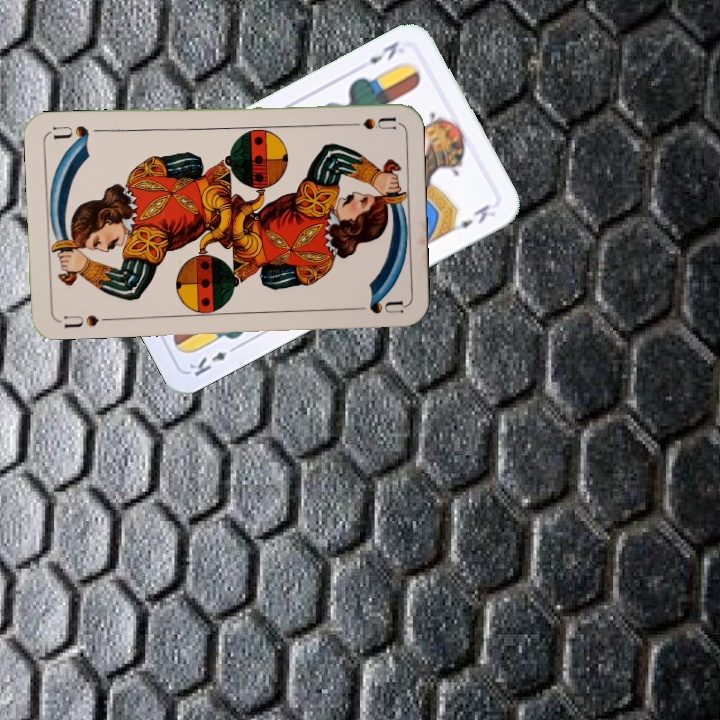EK: (185, 340, 242, 379), (364, 37, 402, 67)
SU: (338, 113, 398, 132), (60, 311, 114, 331)
